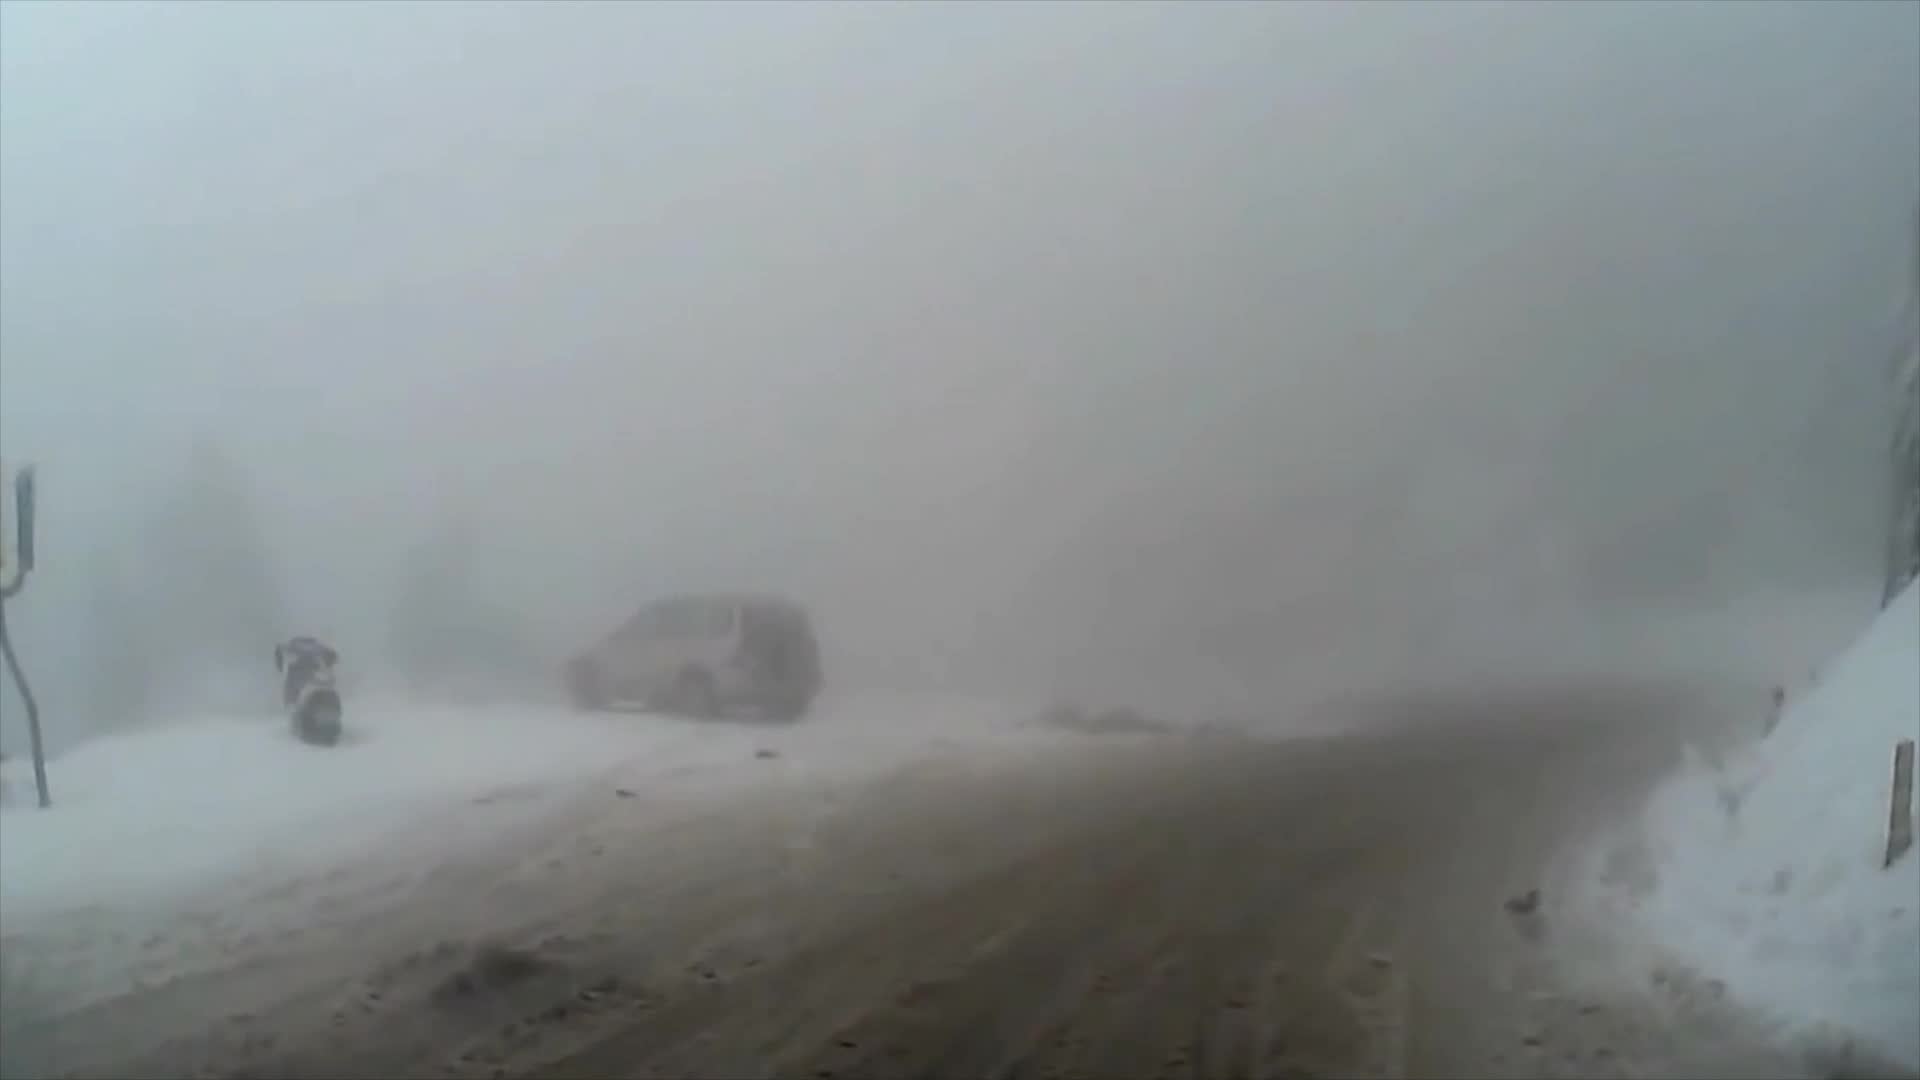vehicle: (559, 589, 818, 721)
